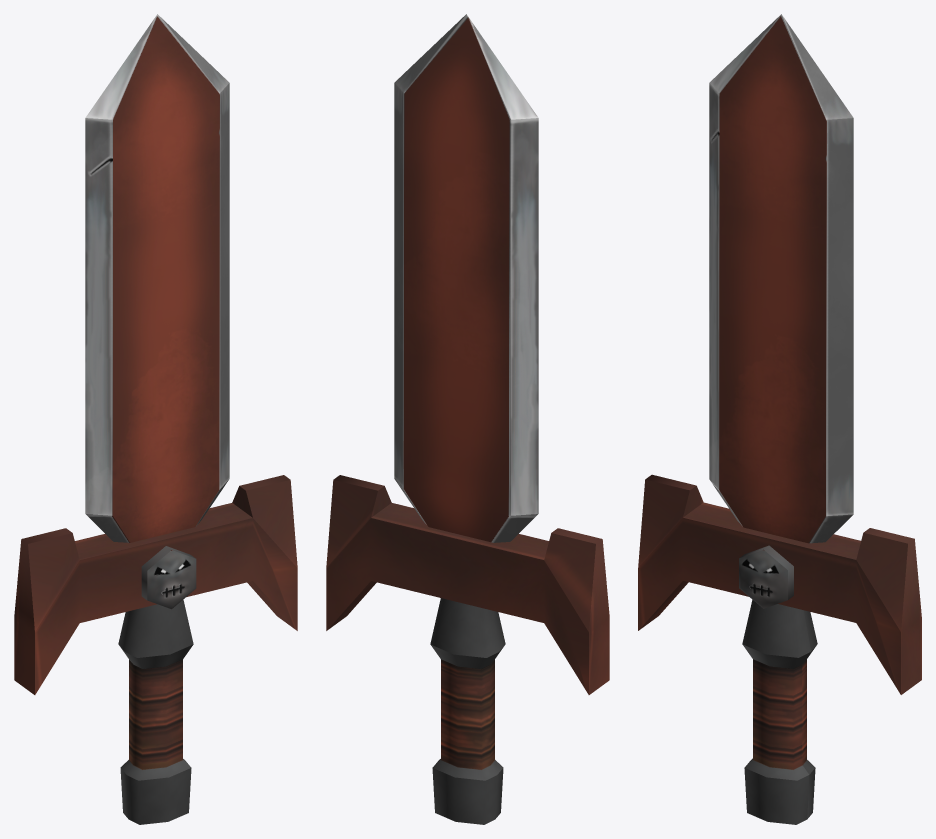
The model's file is Medieval Sword.fbx.
3 views of the same model, side by side, from view 1: azimuth 30°, elevation 25°; view 2: azimuth 150°, elevation 25°; view 3: azimuth 330°, elevation 25° (orthographic).
Visible parts, largest first — view 1: Medieval_Sword; view 2: Medieval_Sword; view 3: Medieval_Sword.
Boxes of the visible parts, <box> form: Medieval_Sword: <box>14,14,297,824</box>; Medieval_Sword: <box>326,14,609,824</box>; Medieval_Sword: <box>638,14,921,824</box>.
Bounding box in the file's own units: 1.6 × 4.65 × 0.339.
